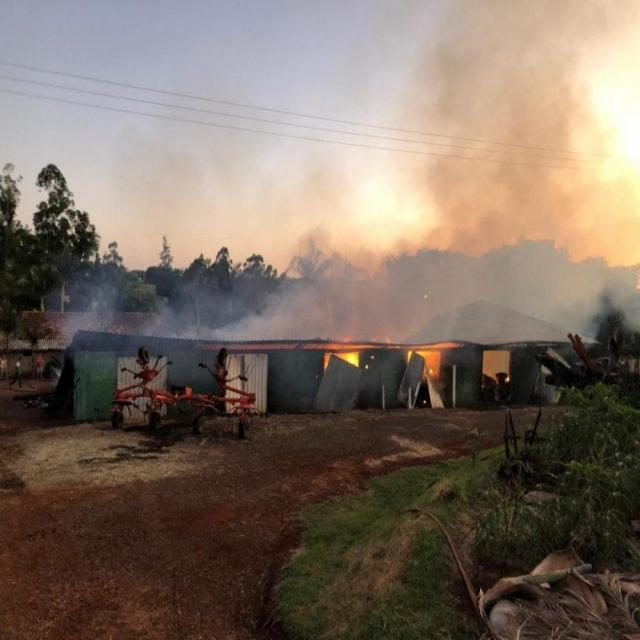Fire: (416, 342, 451, 359), (342, 349, 359, 366)
